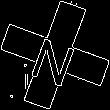N_N: (27, 24, 83, 86)
